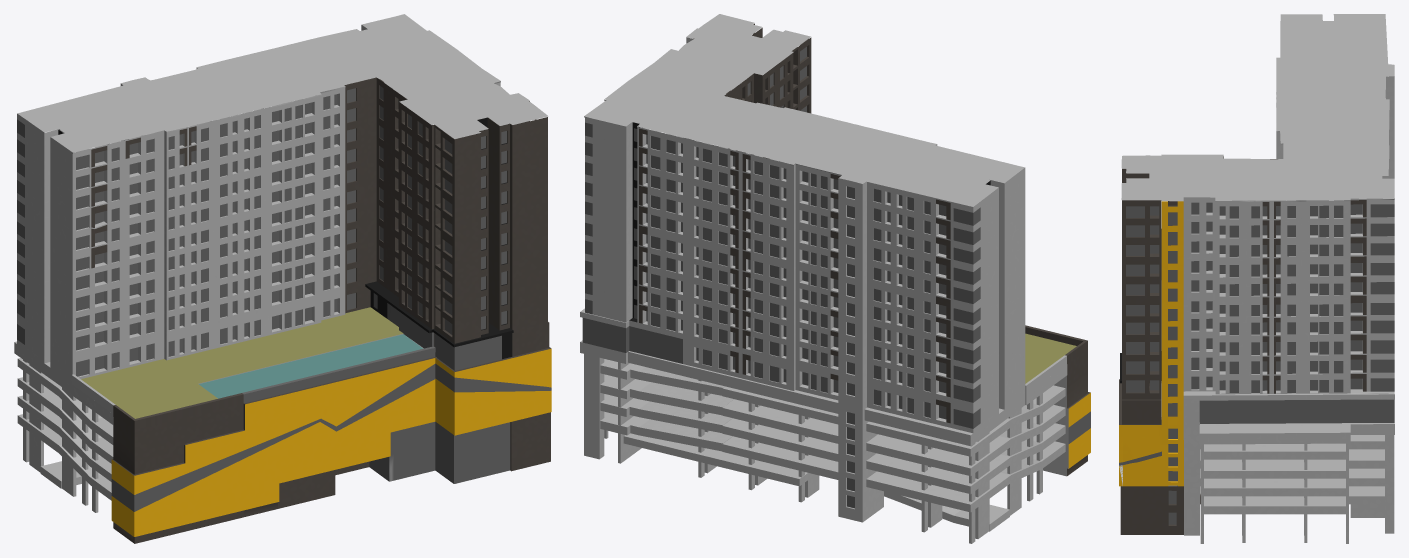
Rendered from final_cut11.glb.
3 renders of one model, left to right at view 1: azimuth 30°, elevation 25°; view 2: azimuth 150°, elevation 25°; view 3: azimuth 270°, elevation 25°, orthographic. The views are drawn at different scales.
Parts seen in each view (by area): view 1: cut:pPlane3 (×8); view 2: cut:pPlane3 (×7); view 3: cut:pPlane3 (×6).
Part boxes in pixels (x1=…): cut:pPlane3 (×8): x1=14, y1=14, x2=551, y2=543; cut:pPlane3 (×7): x1=580, y1=14, x2=1090, y2=543; cut:pPlane3 (×6): x1=1119, y1=14, x2=1394, y2=543.
Size of the model in its own units: 4.69 by 3.72 by 2.77.
11 materials, 11 textured.
